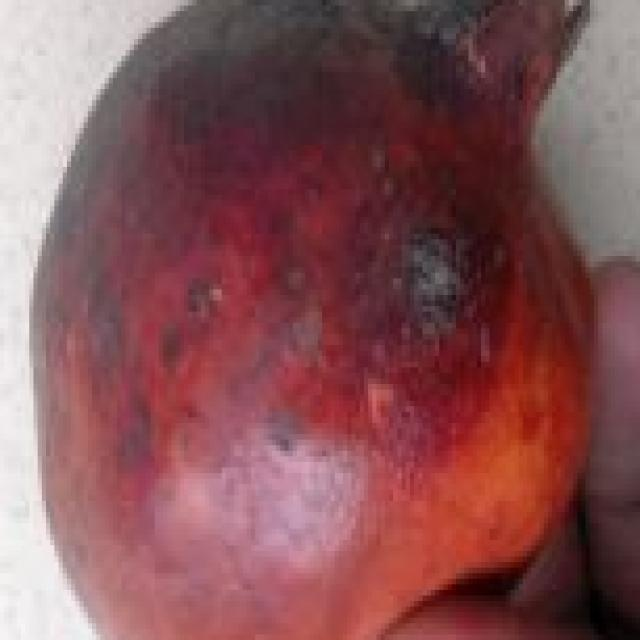Bad_Pomegranate-0-1-day: (29, 0, 594, 640)
